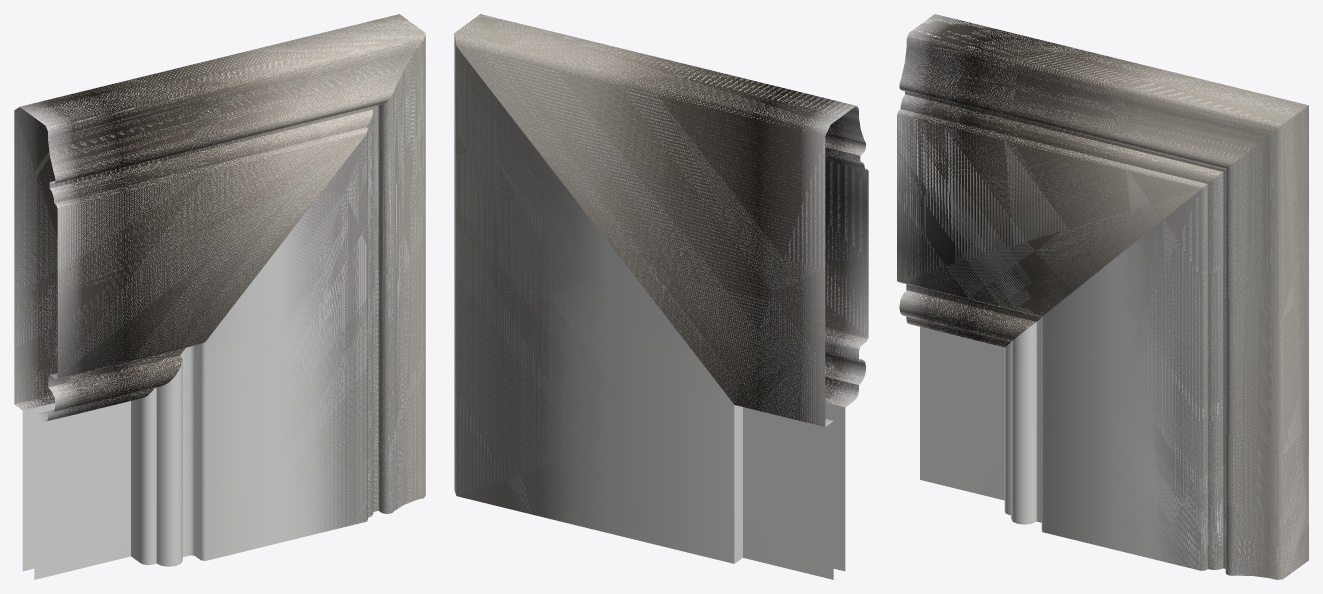
Rendered from original-48.obj.
The picture shows the model from 3 angles, left to right: view 1: azimuth 30°, elevation 25°; view 2: azimuth 150°, elevation 25°; view 3: azimuth 330°, elevation 25°; orthographic projection.
Visible parts, largest first — view 1: RT_11_TR1/RT_11_TR/mesh34/mesh34-geometry#mesh34-geometry; view 2: RT_11_TR1/RT_11_TR/mesh34/mesh34-geometry#mesh34-geometry; view 3: RT_11_TR1/RT_11_TR/mesh34/mesh34-geometry#mesh34-geometry.
Boxes of the visible parts, x1,y1,x2,y2 form: RT_11_TR1/RT_11_TR/mesh34/mesh34-geometry#mesh34-geometry: [14, 14, 425, 579]; RT_11_TR1/RT_11_TR/mesh34/mesh34-geometry#mesh34-geometry: [454, 14, 868, 579]; RT_11_TR1/RT_11_TR/mesh34/mesh34-geometry#mesh34-geometry: [897, 14, 1308, 579].
Bounding box in the file's own units: 0.1703 × 0.1979 × 0.0338.
